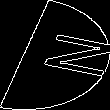N_W: (9, 28, 101, 82)
